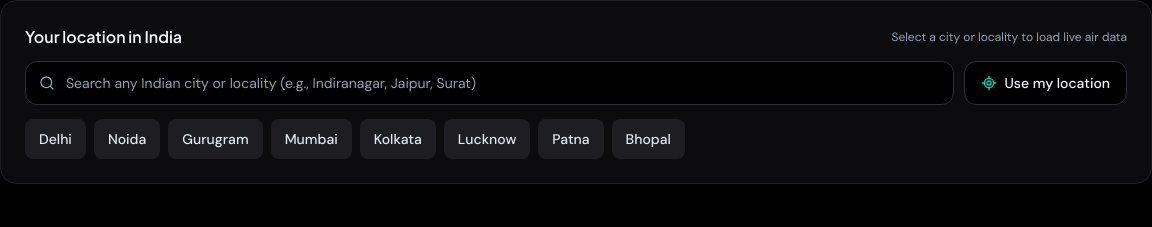
Components Deep 100% Coverage Suite › covers LocationPicker GPS location lookup success, failure, and submit with existing results
The width and height of the screenshot is (1152, 227).
Click use my location button
Click the button "Use my location".
click(1045, 83)  # box 964,61 -> 1127,105
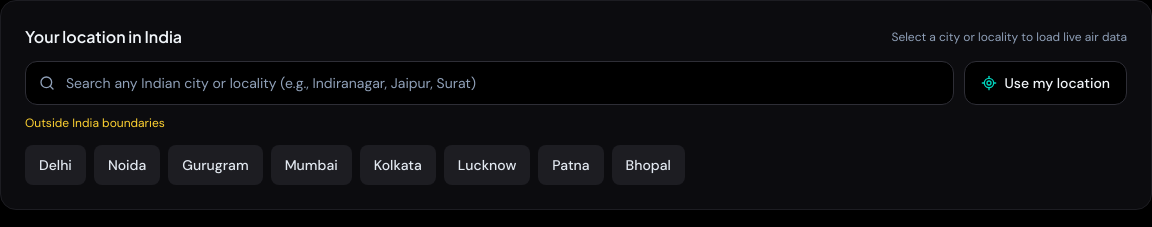
Expected: the text "Outside India boundaries" is shown, 25,115 -> 165,131
